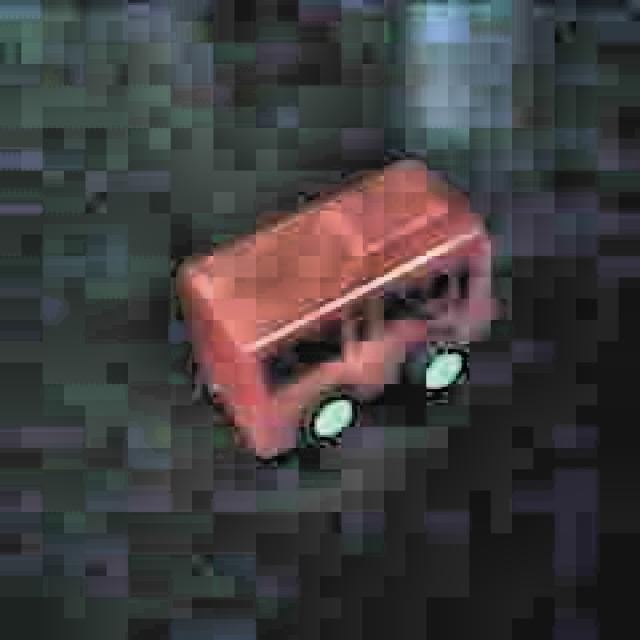bus: (178, 153, 497, 467)
